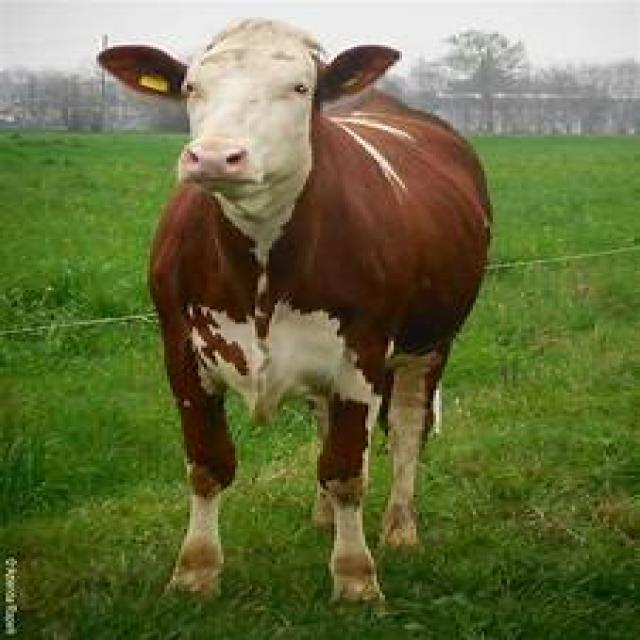animal: (93, 15, 493, 616)
